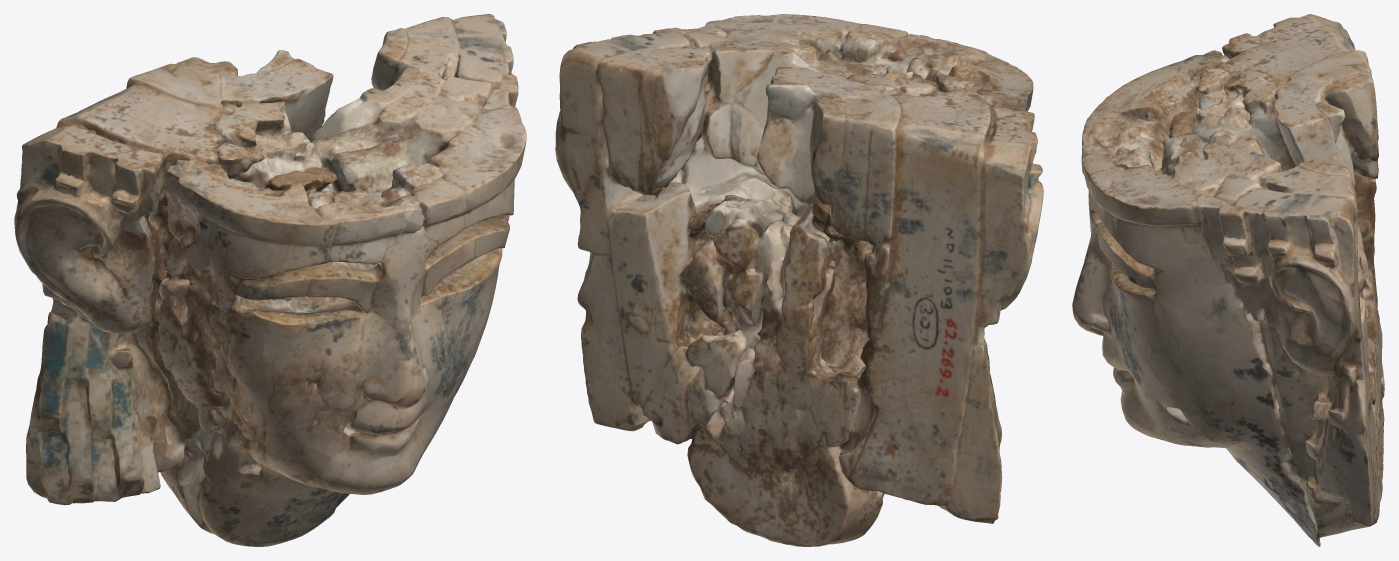
Rendered from preview.glb.
The picture shows the model from 3 angles, left to right: view 1: azimuth 30°, elevation 25°; view 2: azimuth 150°, elevation 25°; view 3: azimuth 270°, elevation 25°; orthographic projection. The views are drawn at different scales.
Parts seen in each view (by area): view 1: _D_42029_001_3D_42029_001_u1_v1_n3d; view 2: _D_42029_001_3D_42029_001_u1_v1_n3d; view 3: _D_42029_001_3D_42029_001_u1_v1_n3d.
Part boxes in pixels (box(x1,y1,x2,y2)): _D_42029_001_3D_42029_001_u1_v1_n3d: box(14, 14, 526, 546); _D_42029_001_3D_42029_001_u1_v1_n3d: box(555, 14, 1043, 546); _D_42029_001_3D_42029_001_u1_v1_n3d: box(1072, 14, 1384, 546).
Size of the model in its own units: 0.0936 by 0.0867 by 0.0569.
1 material, 1 textured.
